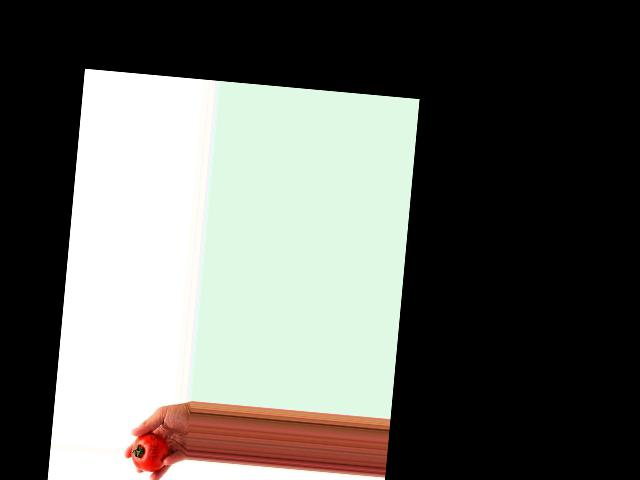tomato: (130, 431, 170, 473)
